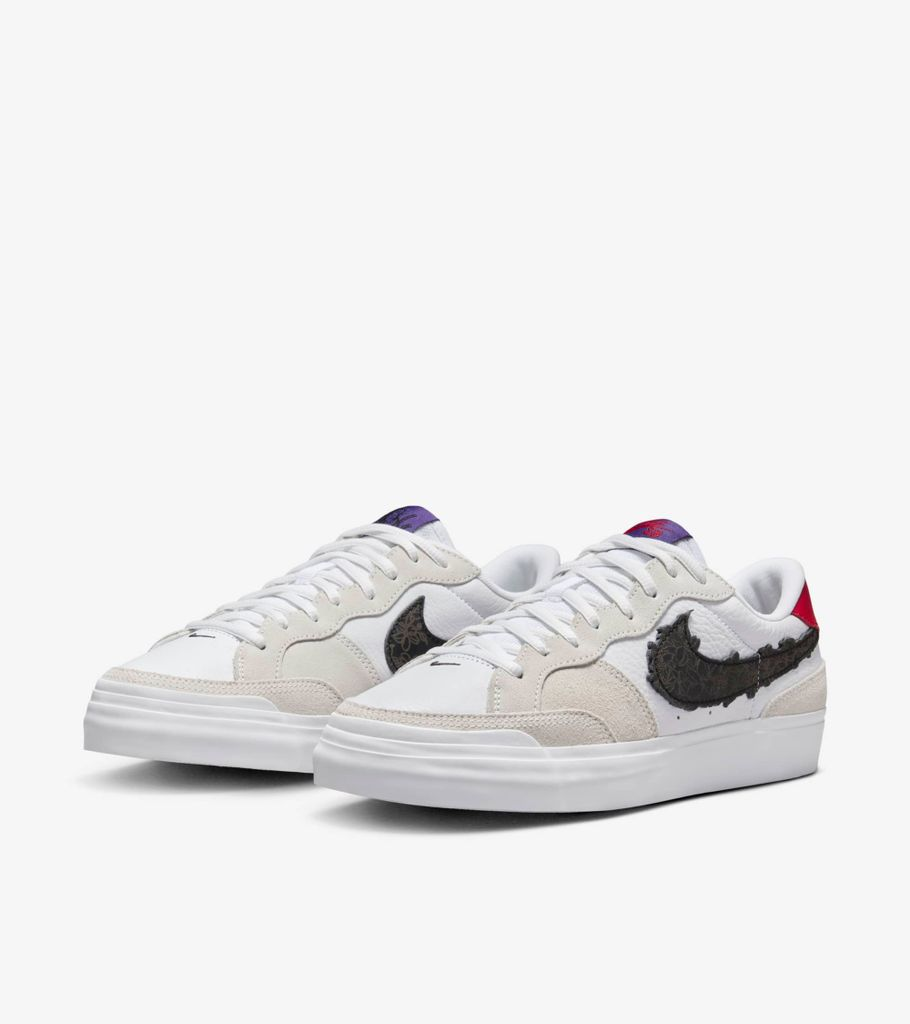nike_pogo_plus_japanese_roots: (309, 515, 828, 814)
